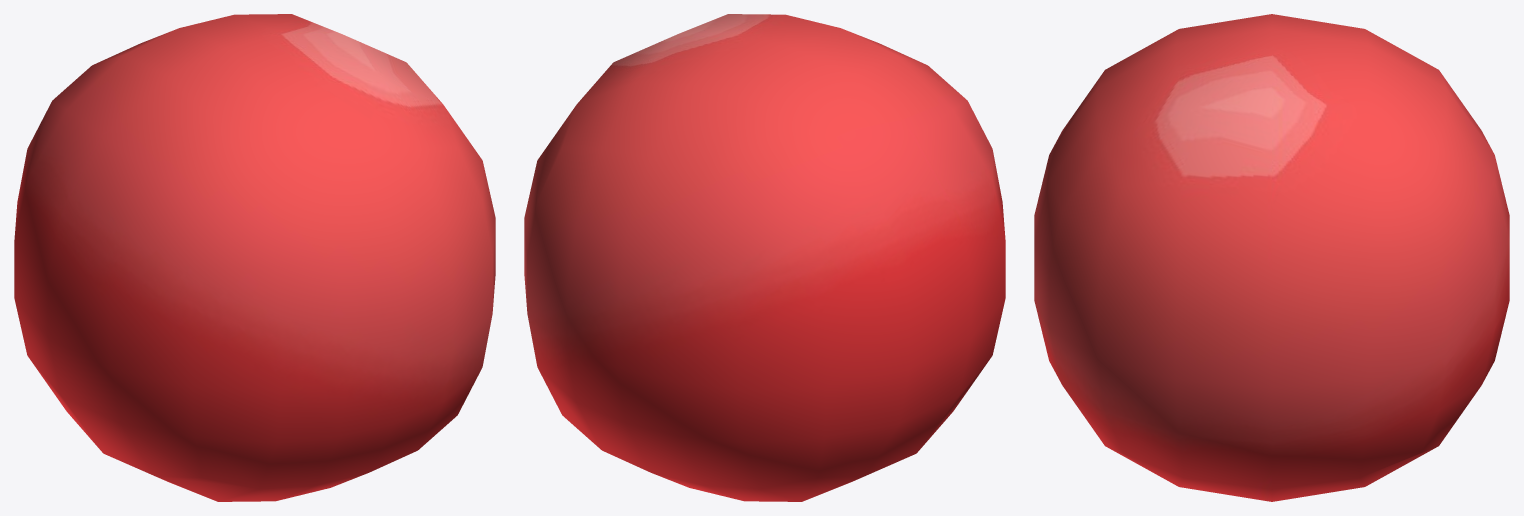
The model's file is SM_MOLECULA_NEUTRON.fbx.
3 views of the same model, side by side, from view 1: azimuth 30°, elevation 25°; view 2: azimuth 150°, elevation 25°; view 3: azimuth 270°, elevation 25° (orthographic).
Parts seen in each view (by area): view 1: SM_MOLECULA_NEUTRON; view 2: SM_MOLECULA_NEUTRON; view 3: SM_MOLECULA_NEUTRON.
Part boxes in pixels (bbox=[...]): SM_MOLECULA_NEUTRON: bbox=[14, 14, 495, 501]; SM_MOLECULA_NEUTRON: bbox=[524, 14, 1005, 501]; SM_MOLECULA_NEUTRON: bbox=[1034, 14, 1509, 501].
Size of the model in its own units: 15 by 15 by 15.
Materials: 1 (1 with a texture image).
